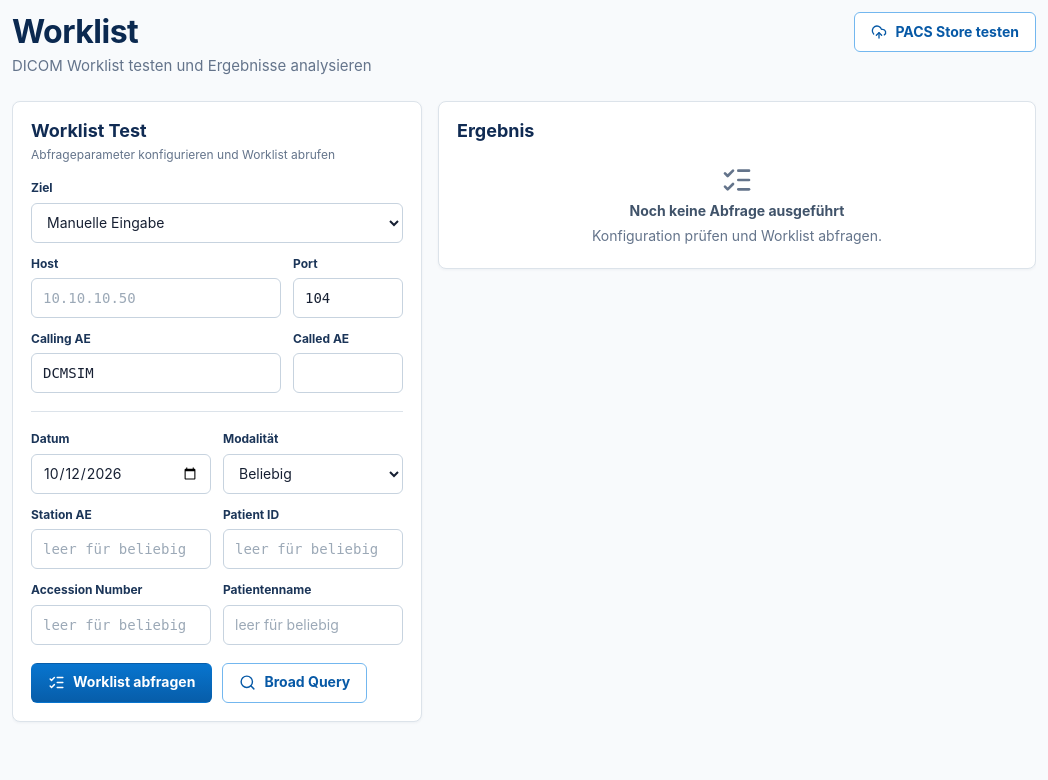
it: uses the updated filter snapshot for a zero-result diagnostic retry
The image size is (1048, 780).
In the field labelled "Host": (156, 298) [31,278,281,318], type "127.0.0.1"
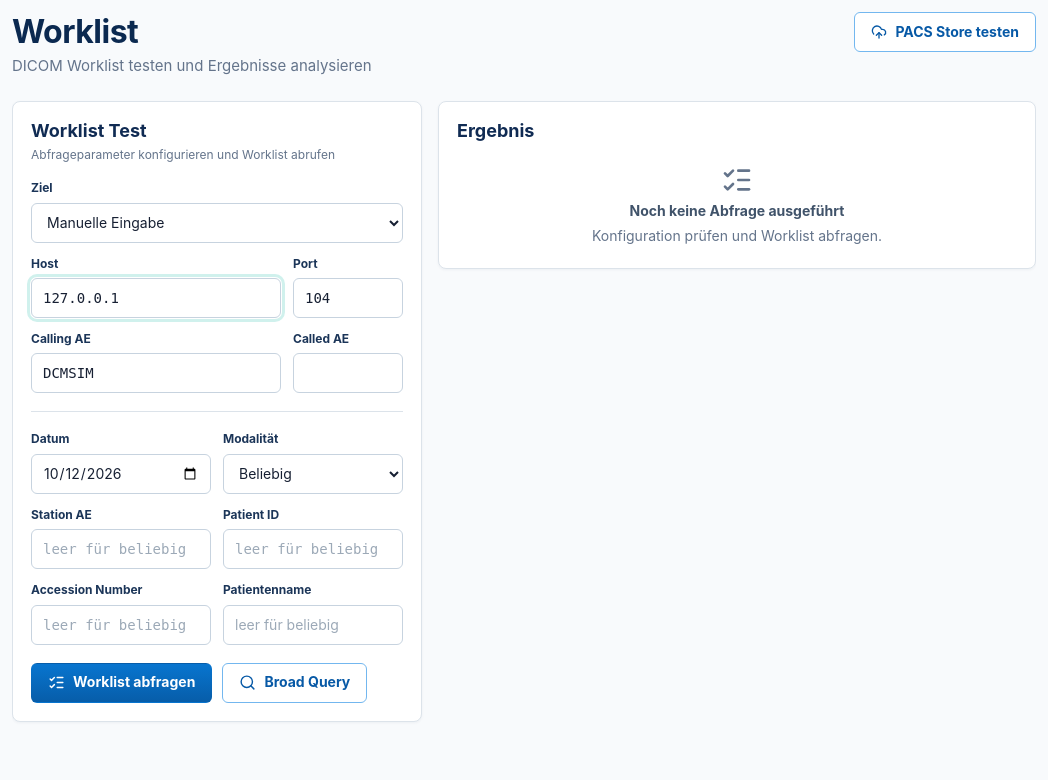
In the field labelled "Called AE": (348, 373) [293,353,403,393], type "TESTMWL"
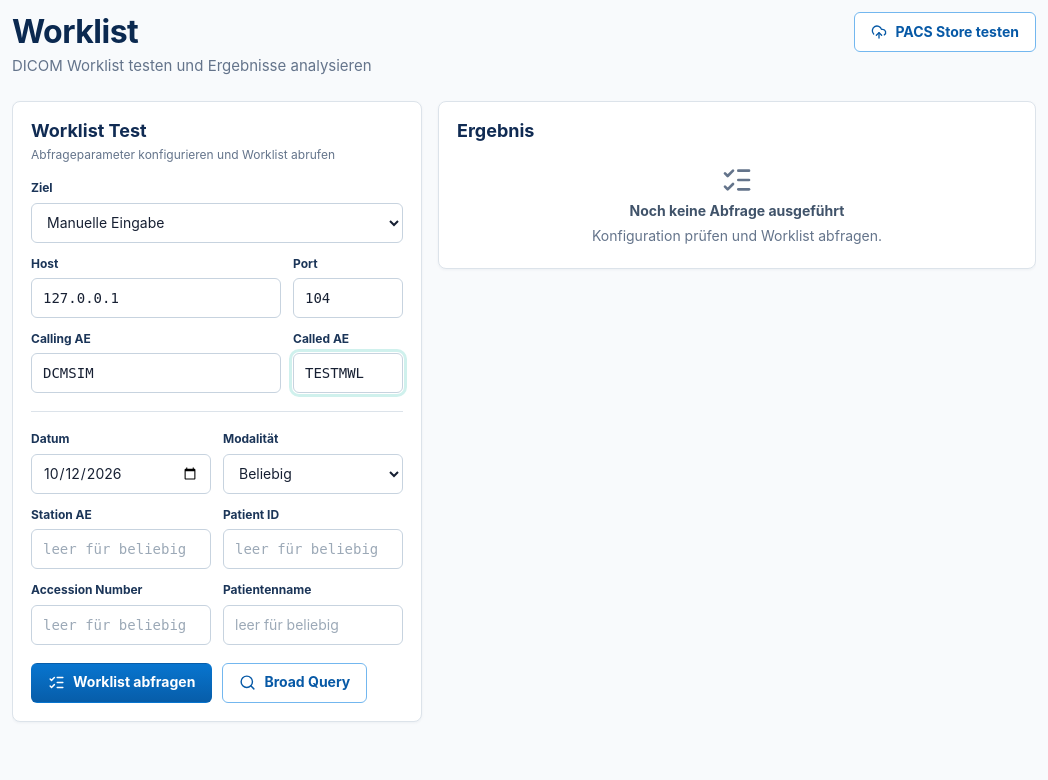
In the field labelled "Station AE": (121, 549) [31,529,211,569], type "CT01"
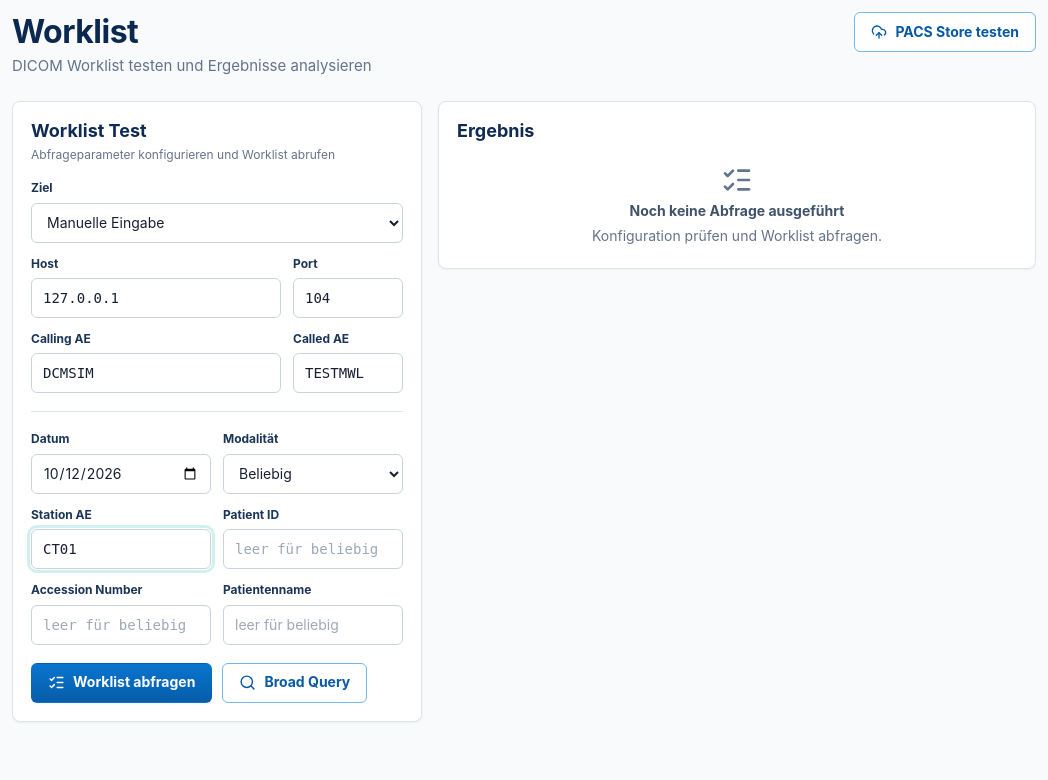
Click the button "Worklist abfragen": (122, 683) [31,663,212,703]
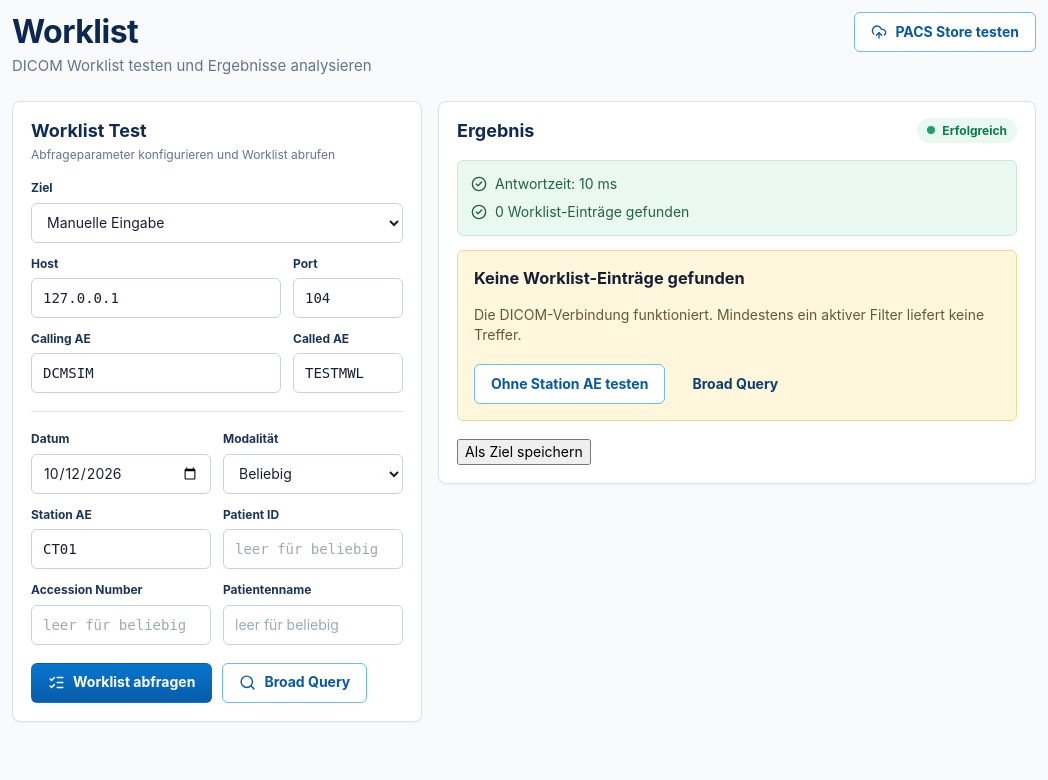
Now the heading "Keine Worklist-Einträge gefunden" is shown, box [474,268,745,288]
Click the button "Ohne Station AE testen": (570, 384) [474,364,665,404]
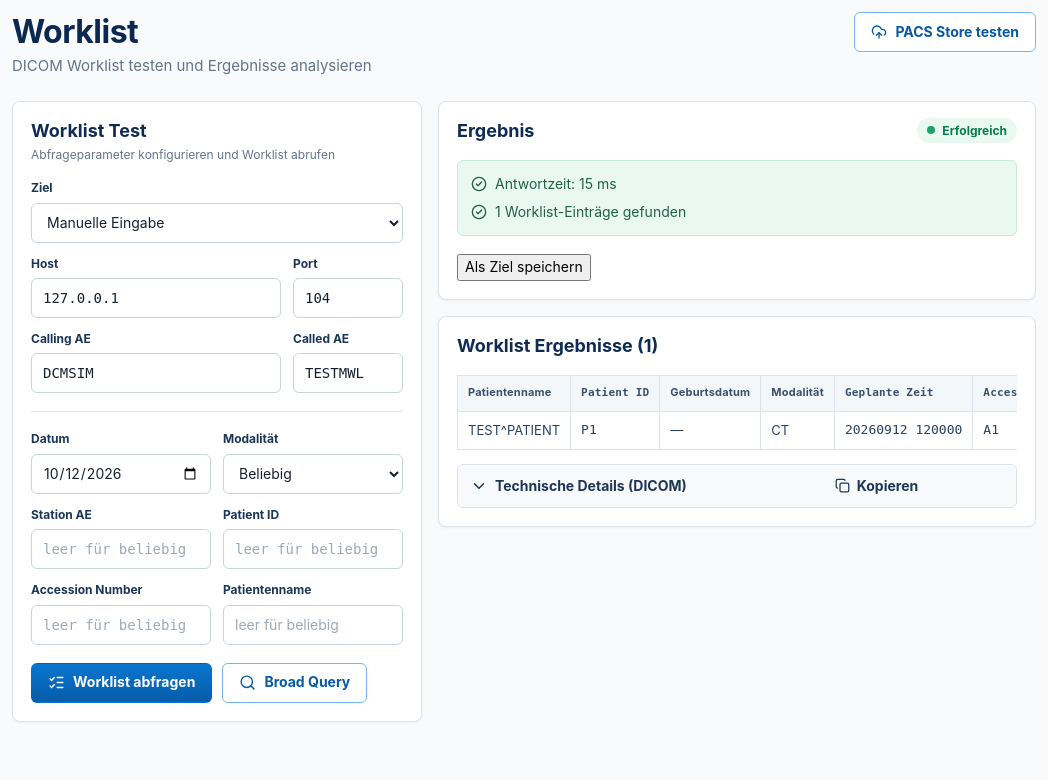
Now the text "TEST^PATIENT" is shown, box [458,411,571,449]
Now the field labelled "Station AE" is empty, box [31,529,211,569]
